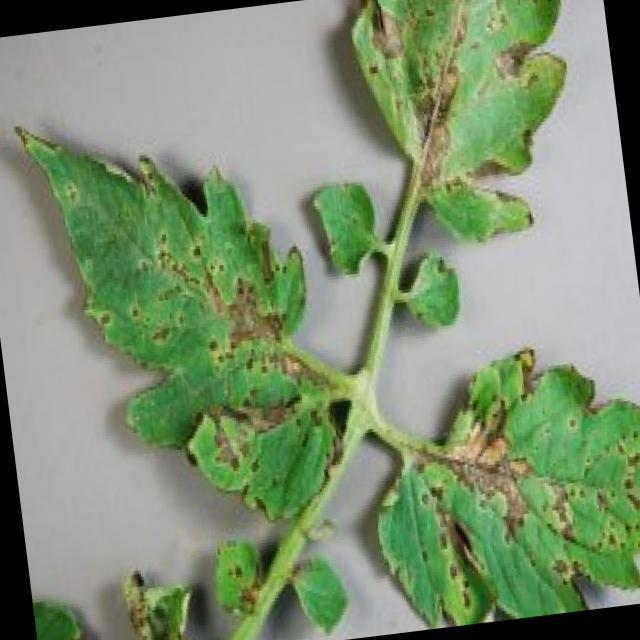Bacterial Spot: (116, 208, 328, 482), (389, 394, 640, 568)
